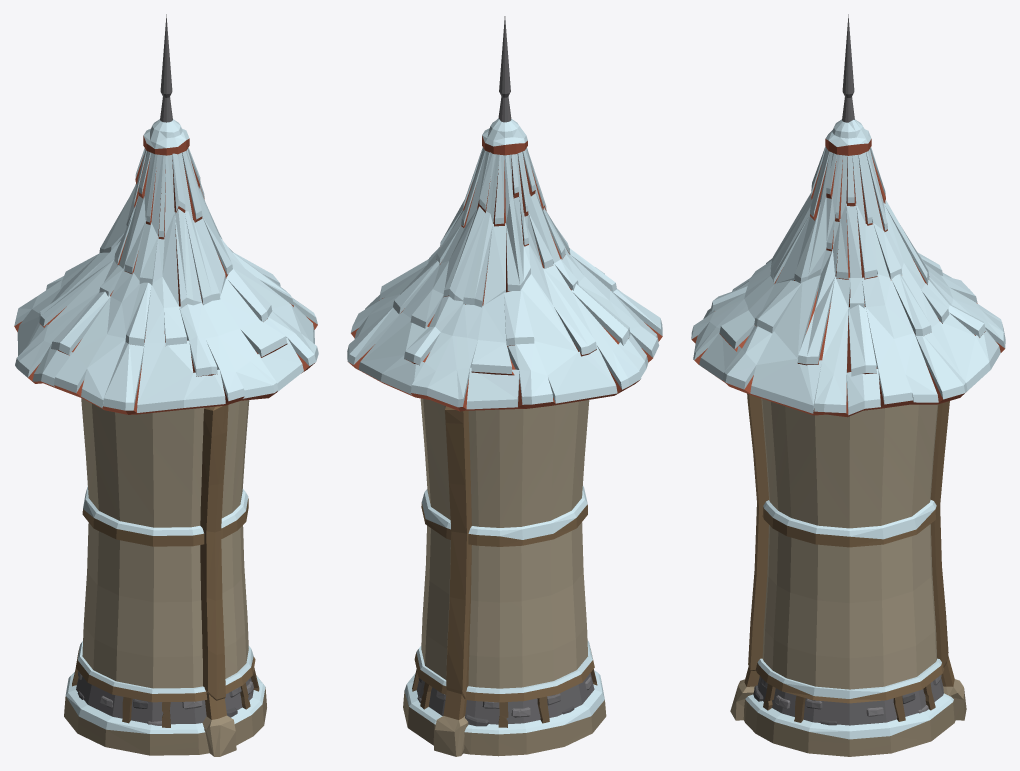
Rendered from SM_Bld_House_Tower_01_Snow.gltf.
The picture shows the model from 3 angles, left to right: view 1: azimuth 30°, elevation 25°; view 2: azimuth 150°, elevation 25°; view 3: azimuth 270°, elevation 25°; orthographic projection.
Parts seen in each view (by area): view 1: SM_Bld_House_Tower_01_Snow; view 2: SM_Bld_House_Tower_01_Snow; view 3: SM_Bld_House_Tower_01_Snow.
Boxes of the visible parts, x1,y1,x2,y2 form: SM_Bld_House_Tower_01_Snow: (14,14,318,756); SM_Bld_House_Tower_01_Snow: (347,16,662,756); SM_Bld_House_Tower_01_Snow: (691,14,1005,756).
Bounding box in the file's own units: 3.07 × 7.44 × 3.03.
Materials: 1 (1 with a texture image).
